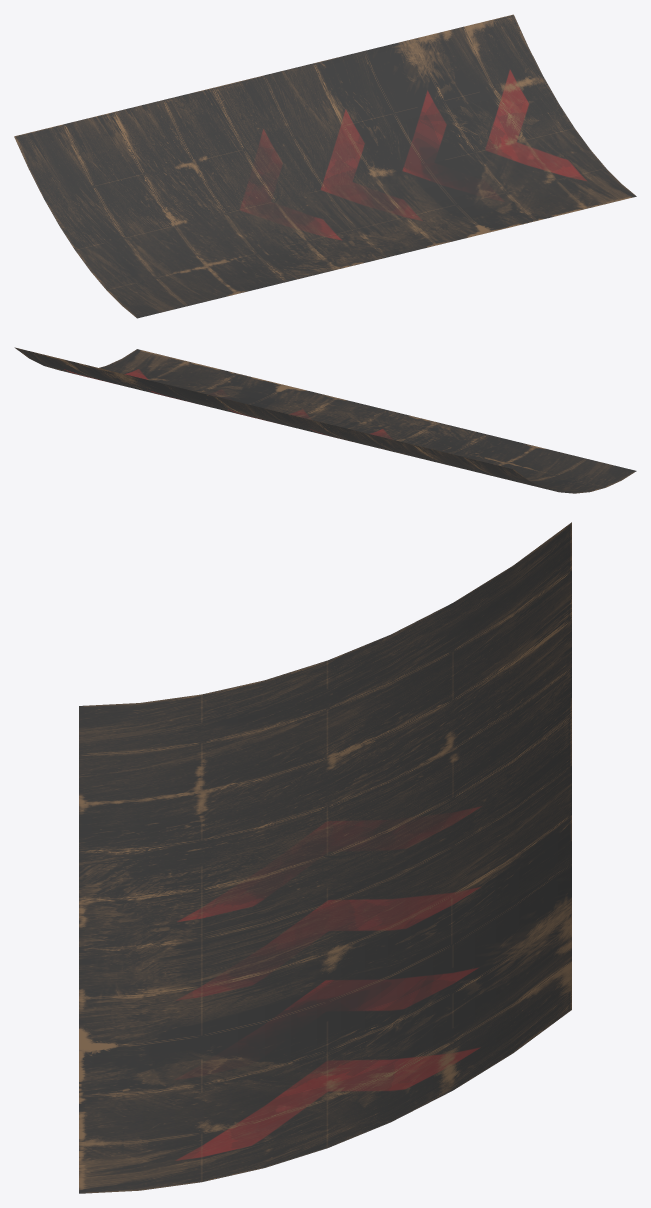
Rendered from Route_D_C.fbx.
3 views of the same model, one above another, from view 1: azimuth 30°, elevation 25°; view 2: azimuth 150°, elevation 25°; view 3: azimuth 270°, elevation 25° (orthographic). The views are drawn at different scales.
Parts seen in each view (by area): view 1: polySurface375; view 2: polySurface375; view 3: polySurface375.
Part boxes in pixels (<box>): polySurface375: <box>14,14,636,318</box>; polySurface375: <box>14,347,636,493</box>; polySurface375: <box>79,522,571,1193</box>.
Size of the model in its own units: 30 by 5.27 by 12.81.
